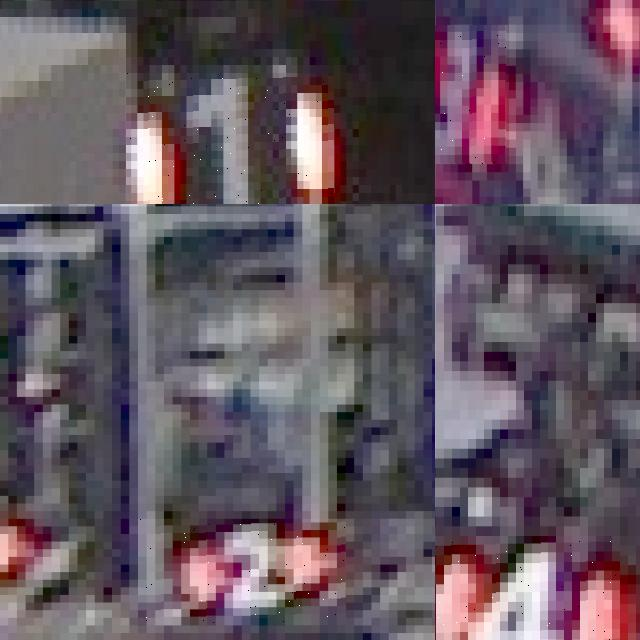R1: (125, 73, 334, 204)
R2: (138, 519, 346, 625)
R3: (435, 24, 508, 164)
R4: (435, 536, 620, 640)
